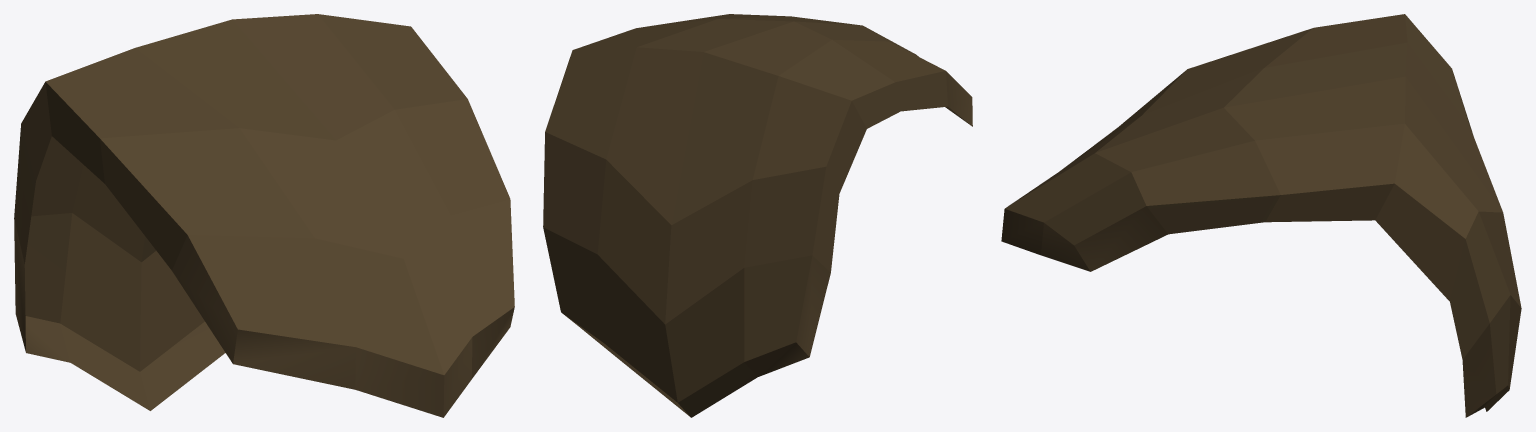
File: Spallaccio_dx_5.fbx
The picture shows the model from 3 angles, left to right: view 1: azimuth 30°, elevation 25°; view 2: azimuth 150°, elevation 25°; view 3: azimuth 270°, elevation 25°; orthographic projection. The views are drawn at different scales.
Parts seen in each view (by area): view 1: polySurface1.020; view 2: polySurface1.020; view 3: polySurface1.020.
Part boxes in pixels (x1=…): polySurface1.020: x1=14, y1=14, x2=514, y2=417; polySurface1.020: x1=543, y1=14, x2=972, y2=417; polySurface1.020: x1=1001, y1=14, x2=1521, y2=417.
Bounding box in the file's own units: 18.34 × 20.09 × 27.12.
